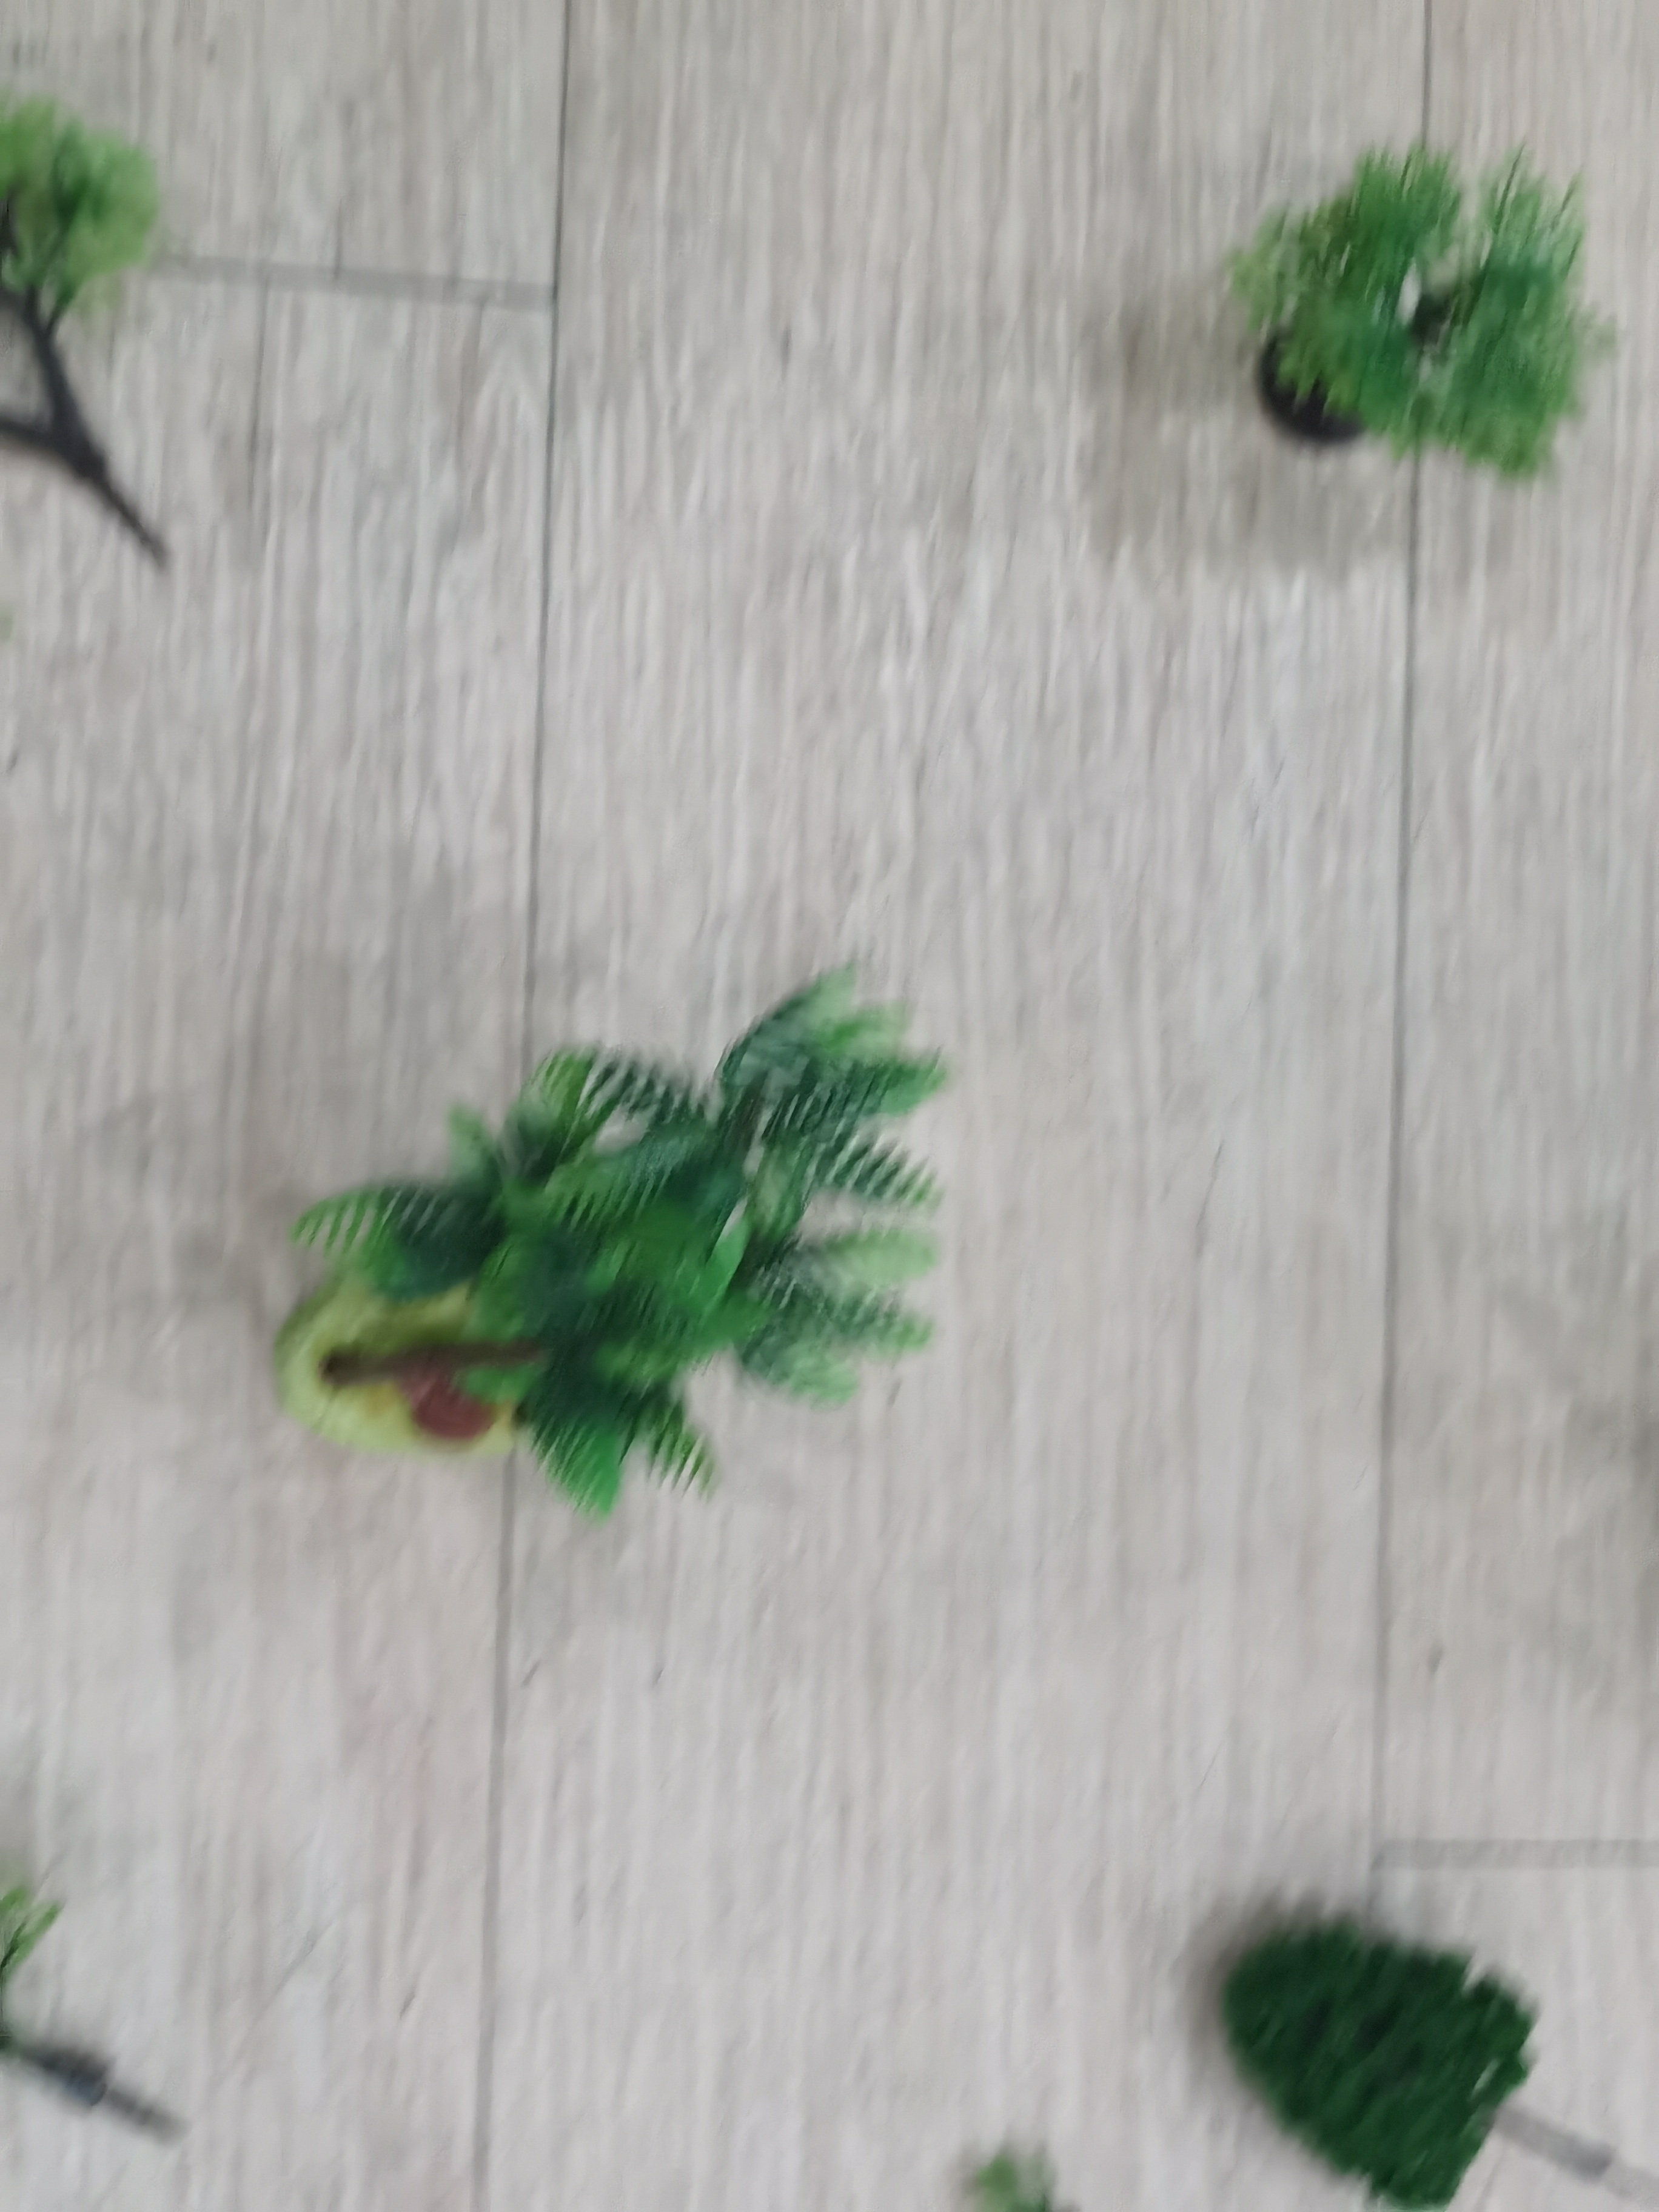corn: (253, 956, 985, 1529)
